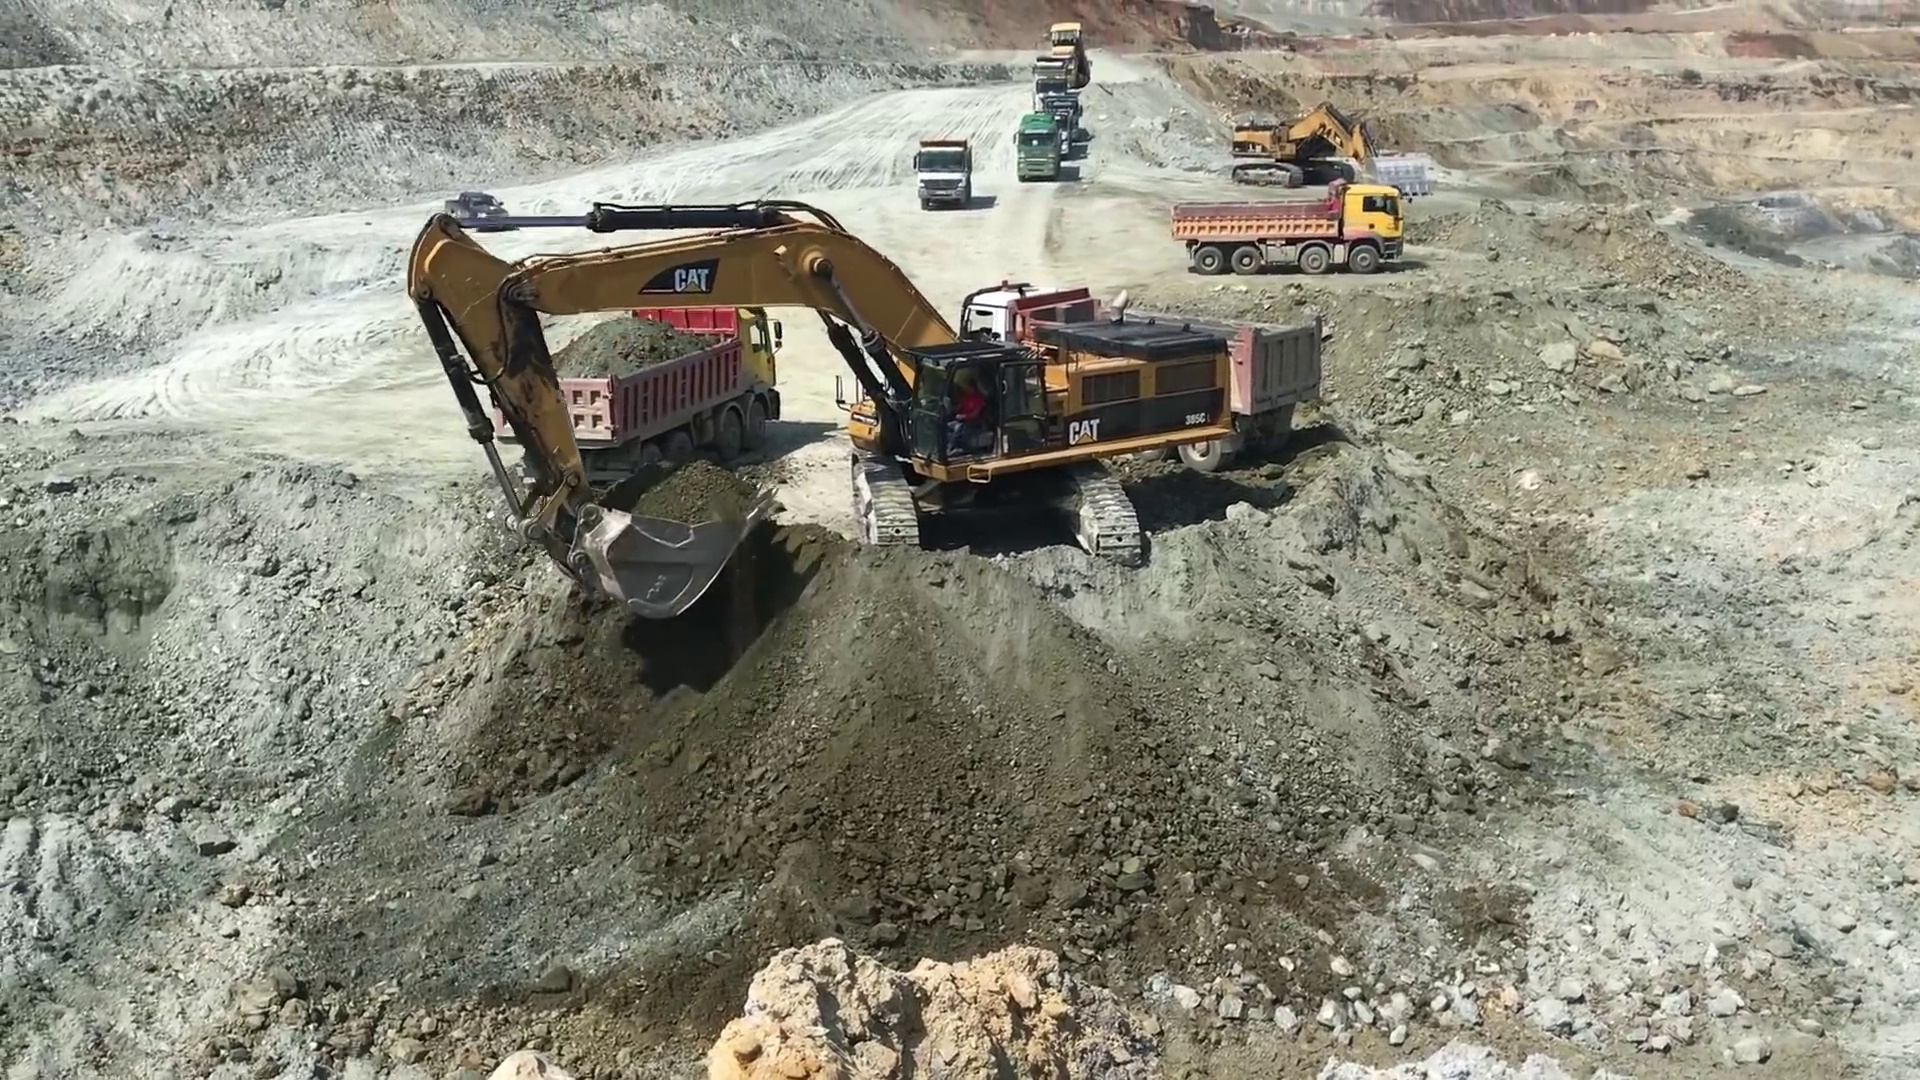excavator: (402, 200, 1244, 629), (1229, 100, 1433, 196)
truck: (965, 280, 1327, 467), (520, 306, 791, 476), (1174, 178, 1410, 274), (913, 132, 971, 208), (1011, 109, 1076, 178)
